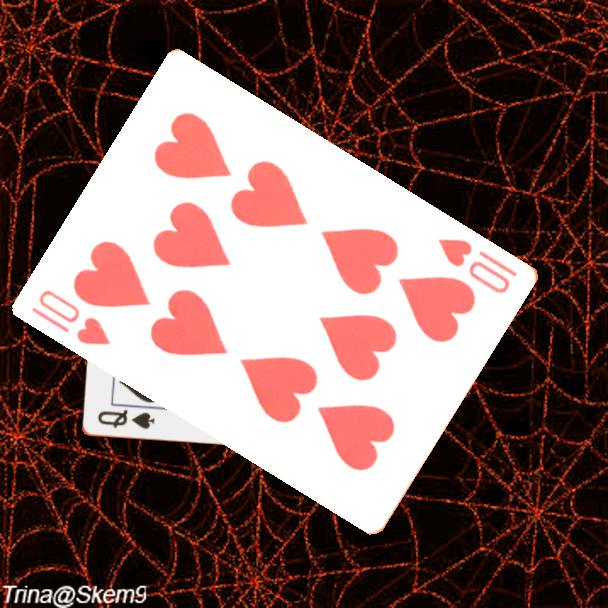h10: (435, 234, 521, 297), (28, 285, 114, 348)
s12: (94, 407, 157, 432)
